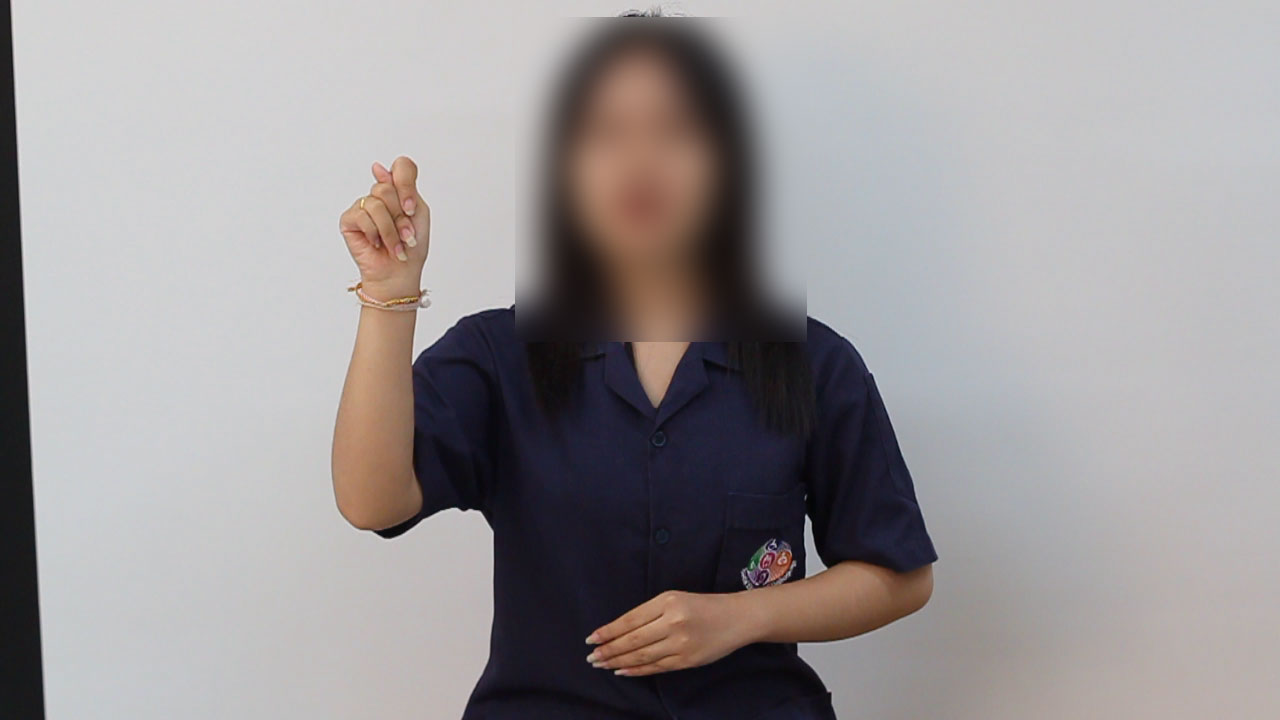tor: (324, 144, 462, 291)
